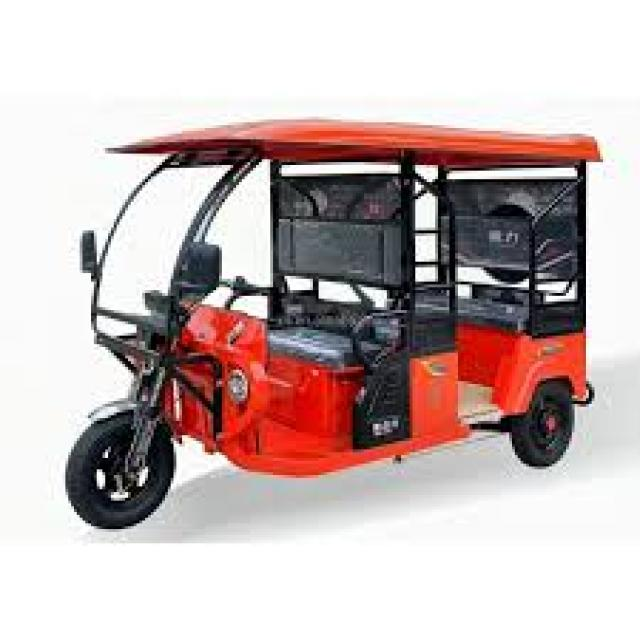tuktuk: (49, 30, 620, 579)
